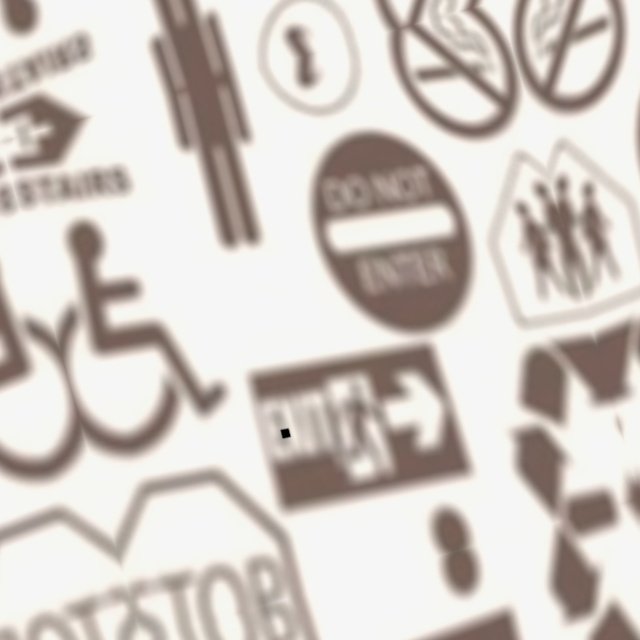ISA: (23, 180, 250, 480), (0, 223, 96, 524), (0, 0, 131, 60)
